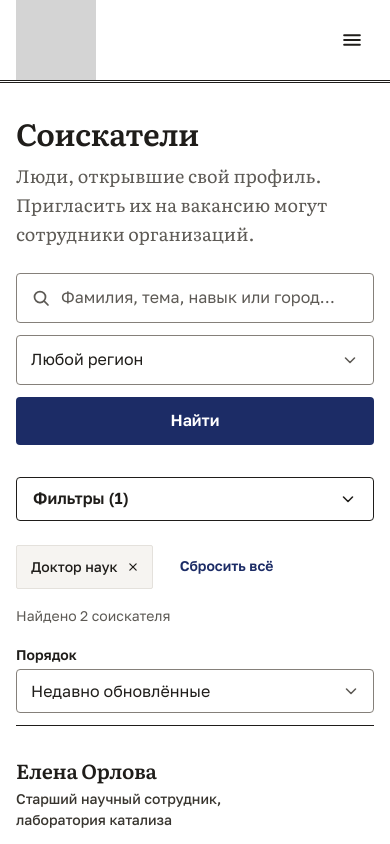
it: catalog page › opens the filter column with a button on a narrow screen
Expected: the link "Елена Орлова" is shown, left=16, top=755, right=157, bottom=785
Click the button "Фильтры (1)": point(81, 498) left=16, top=477, right=374, bottom=521
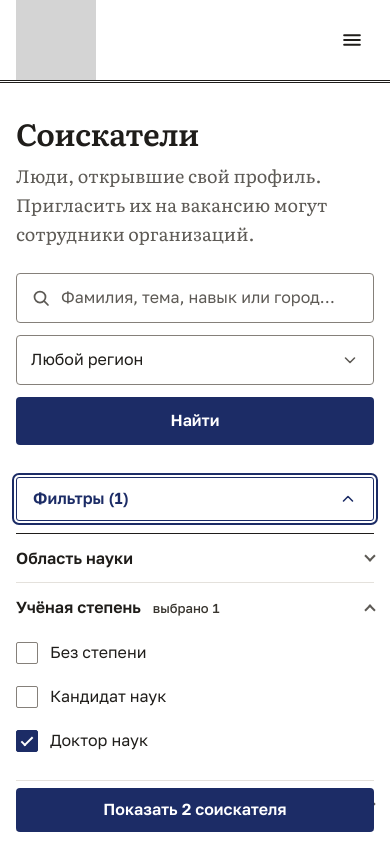
Expected: the button "Фильтры (1)" is expanded, left=16, top=477, right=374, bottom=521
Click the button "Показать 2 соискателя": point(195, 810) left=16, top=788, right=374, bottom=832
(page scrolled)
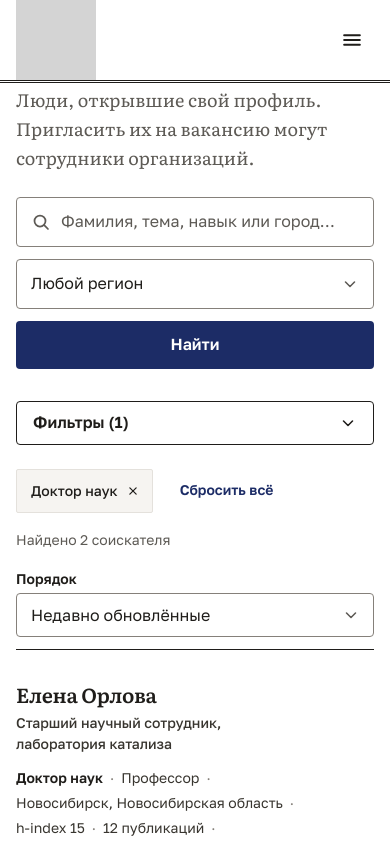
Expected: the button "Фильтры (1)" is collapsed, left=16, top=401, right=374, bottom=445
